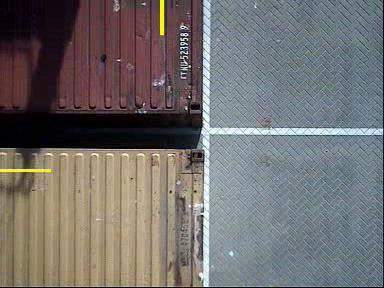groundmarker_2: (188, 154, 258, 240)
